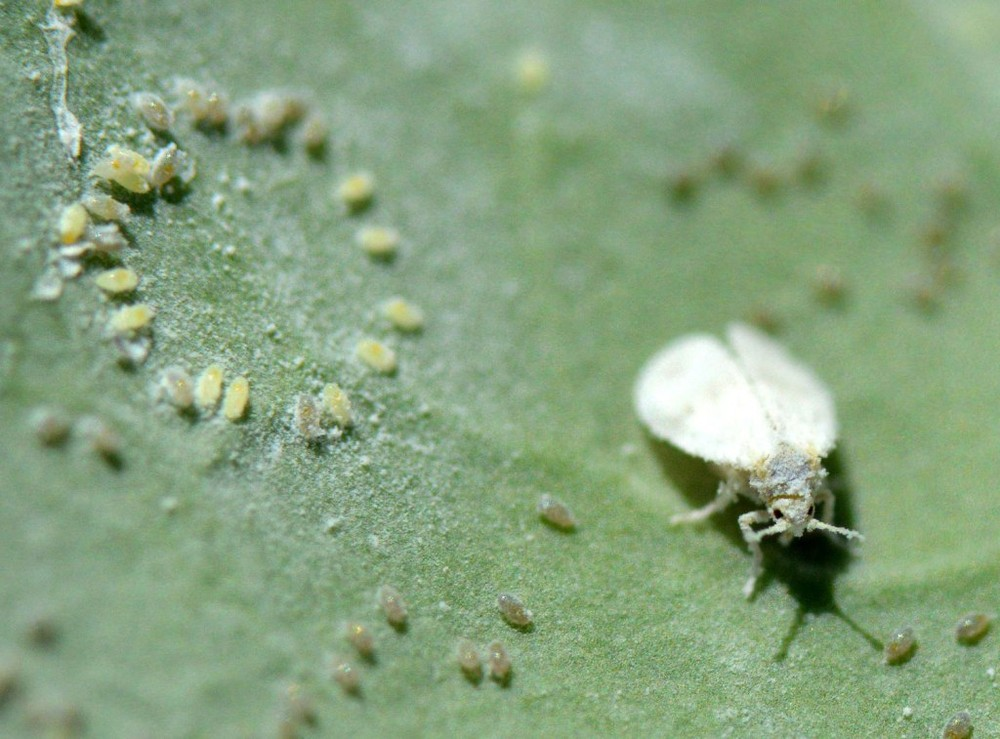Mosca Blanca: (603, 301, 909, 612)
